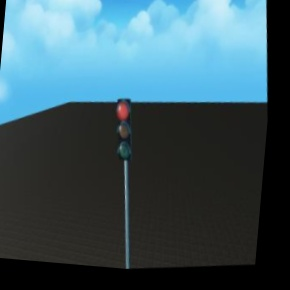sinalRed: (110, 95, 140, 170)
